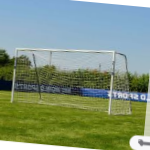goals: (10, 44, 134, 119)
